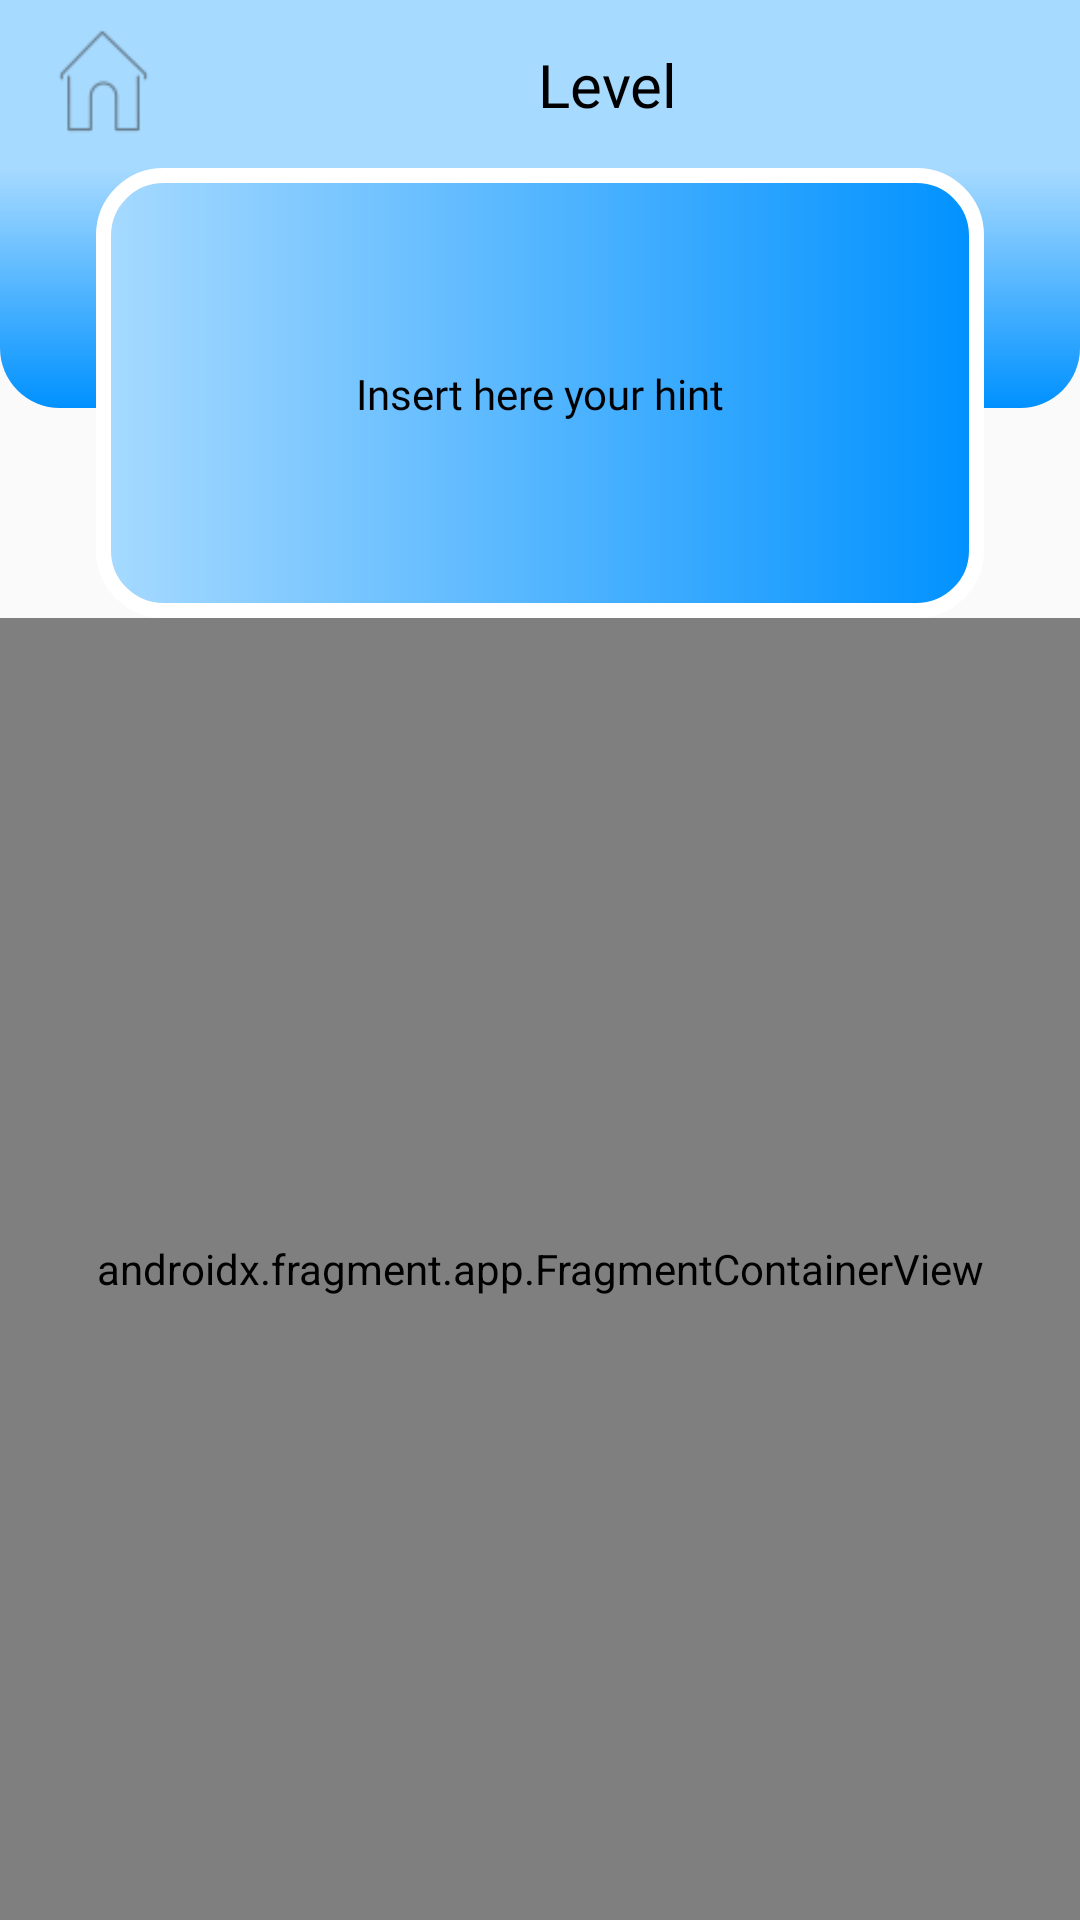

Icon bounding boxes for this 1080 × 1920 phone screenshot, format [x1,y1,x2,y2]:
home: [60,31,147,131]
